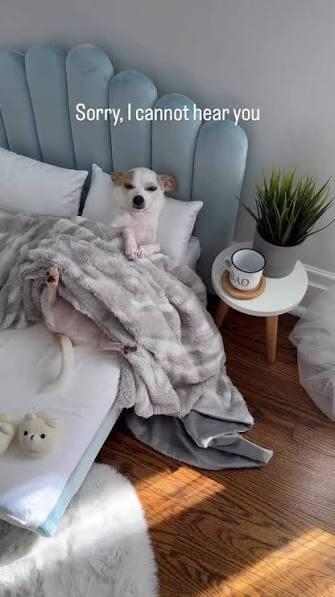adult_dog: (31, 167, 180, 392)
